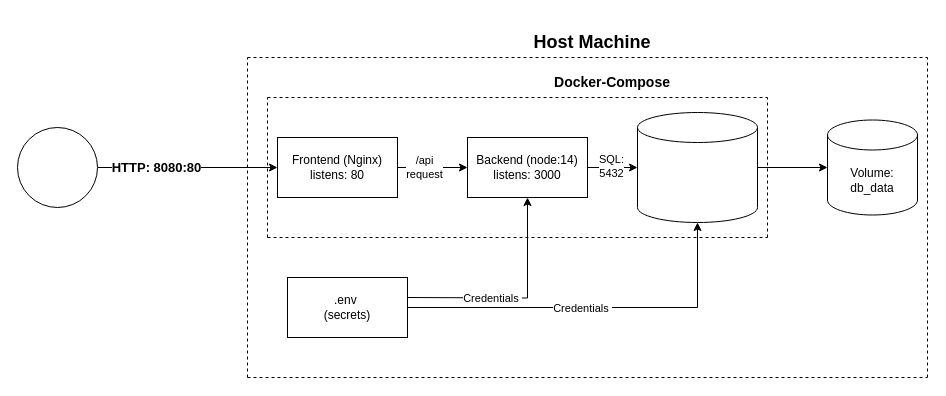
Image size: 946x396. Some labels were removed from this diagram. The centre of each missing label's shape, as x and y in pixels:
"DataBase postgres:15-alpine listens:5432" belongs at [697,167].
"User Browser: 8080" belongs at [57,167].
